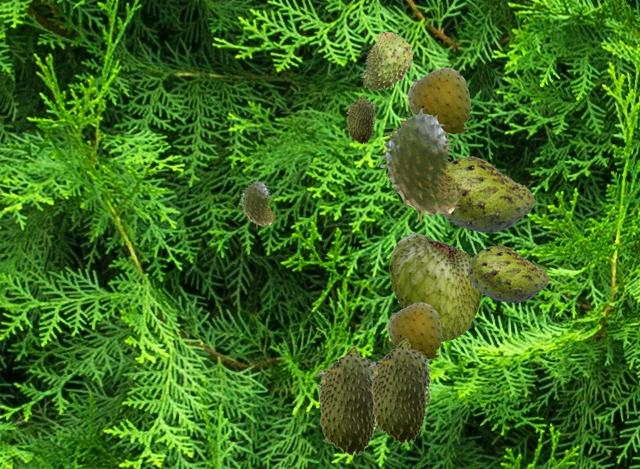guyabano: (389, 231, 482, 341), (380, 108, 462, 223), (442, 156, 534, 232), (369, 338, 432, 443), (316, 345, 376, 455), (467, 245, 548, 302), (406, 67, 471, 135), (386, 302, 442, 360), (360, 32, 412, 90), (239, 179, 274, 228), (346, 94, 375, 143)
